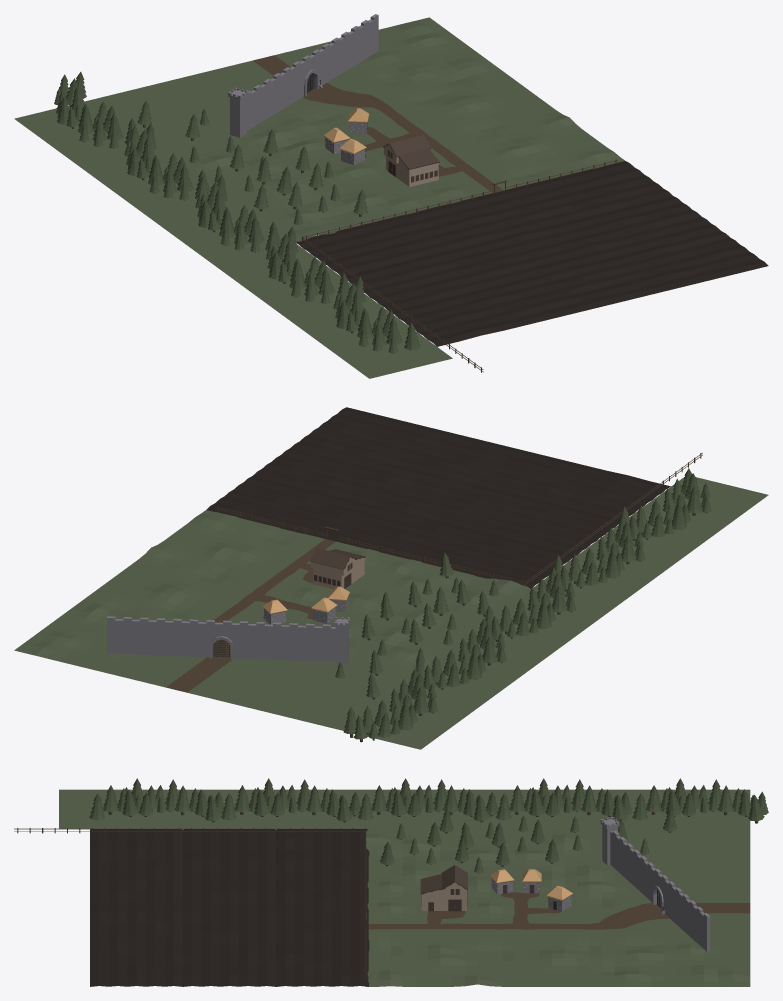
The model's file is Village_Scene.fbx.
3 renders of one model, top to bottom at view 1: azimuth 30°, elevation 25°; view 2: azimuth 150°, elevation 25°; view 3: azimuth 270°, elevation 25°, orthographic. The views are drawn at different scales.
Parts seen in each view (by area): view 1: ground, field2, castleWall, barn, fence, tower, fence1; view 2: ground, field2, castleWall, barn, fence, tower, fence1; view 3: ground, field2, castleWall, barn, fence1, tower.
Boxes of the visible parts, x1,y1,x2,y2 form: ground: (14,17,624,378); field2: (296,161,768,346); castleWall: (247,14,378,130); barn: (383,135,439,186); fence: (303,159,617,239); tower: (228,87,248,137); fence1: (301,236,483,372); ground: (14,477,768,749); field2: (206,407,670,588); castleWall: (107,616,335,661); barn: (310,548,365,588); fence: (216,506,524,584); tower: (334,617,349,664); fence1: (525,452,702,585); ground: (59,789,750,986); field2: (90,829,369,986); castleWall: (610,830,710,951); barn: (420,865,467,910); fence1: (14,828,366,833); tower: (600,817,619,865).
Bounding box in the file's own units: 125 × 13.5 × 203.
